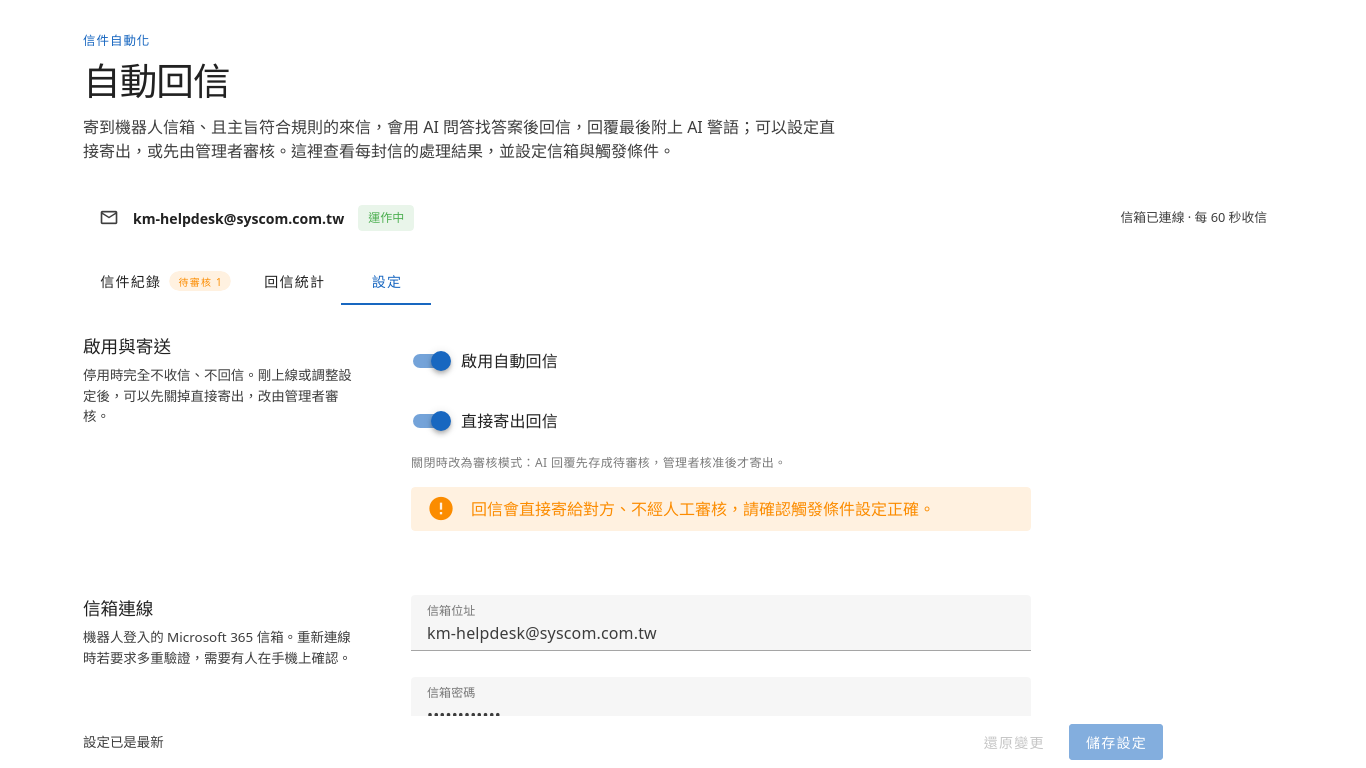
AdminMailBotView › 15. 關閉直接寄出並儲存後，頁面顯示審核模式提醒
Step 1. Click the checkbox labelled "直接寄出回信" → [509, 421], box top-left (461, 410), bottom-right (558, 432)
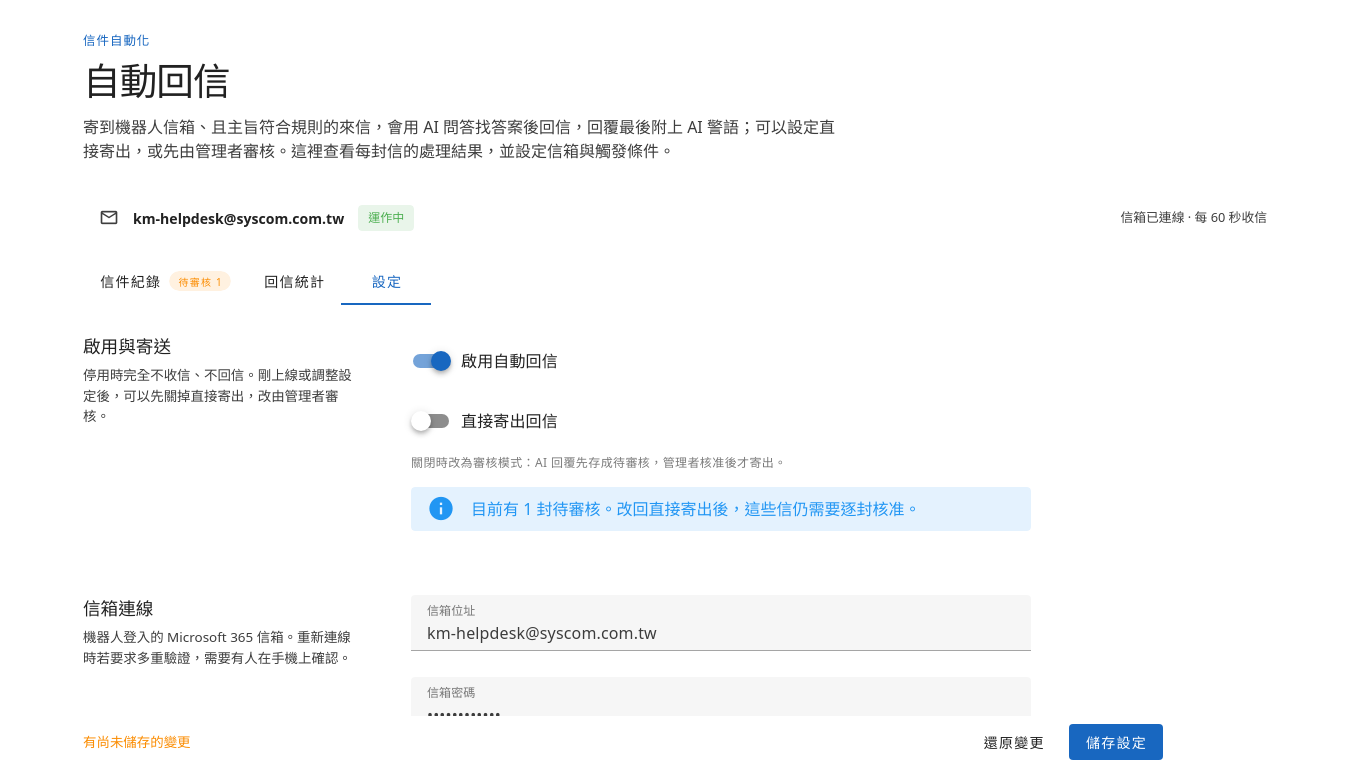
Step 2. Click the button with test id "mail-settings-save" → [1116, 742], box top-left (1069, 724), bottom-right (1163, 760)
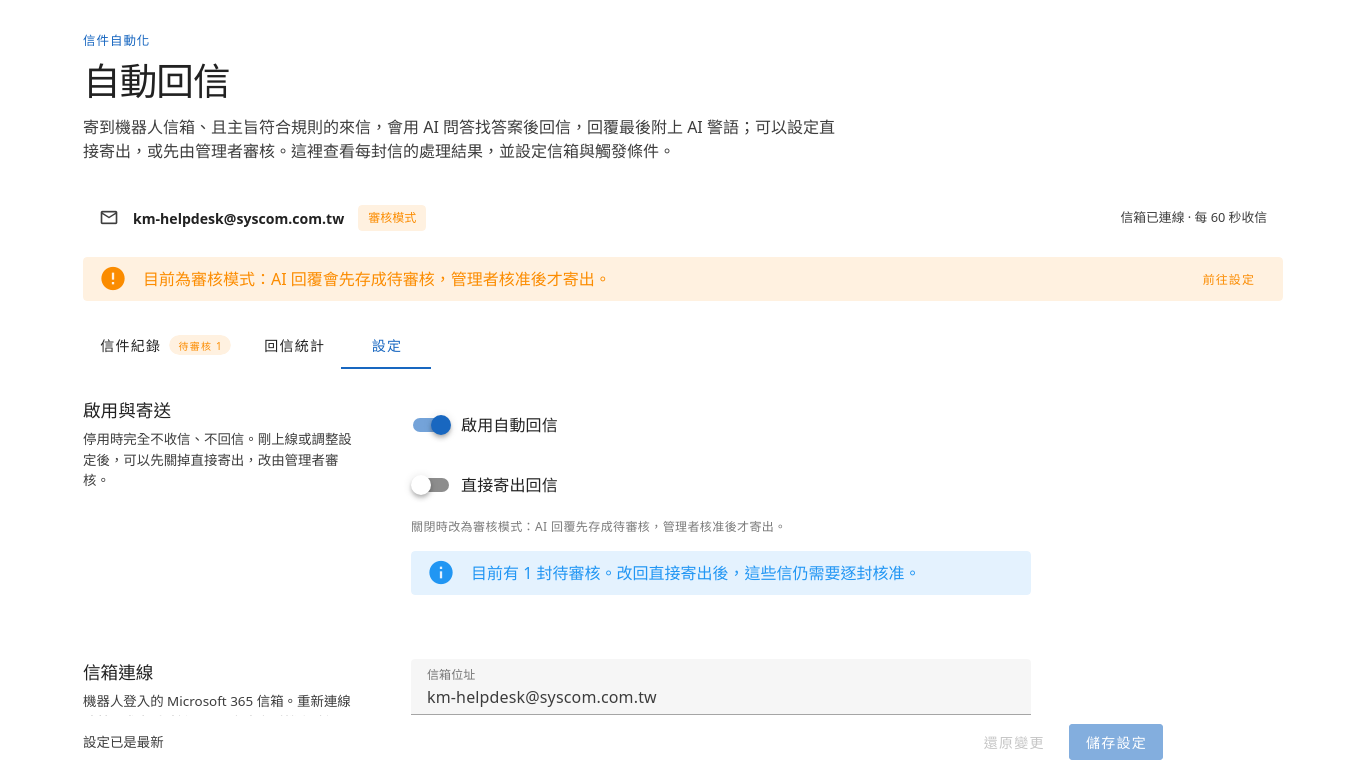
Result: the text "目前為審核模式" is shown at top-left (143, 268), bottom-right (611, 290)
